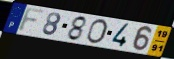4: (110, 22, 130, 49)
6: (131, 25, 154, 52)
8: (66, 15, 88, 42), (42, 12, 62, 37)
F: (15, 7, 48, 34)
O: (85, 18, 109, 45)
